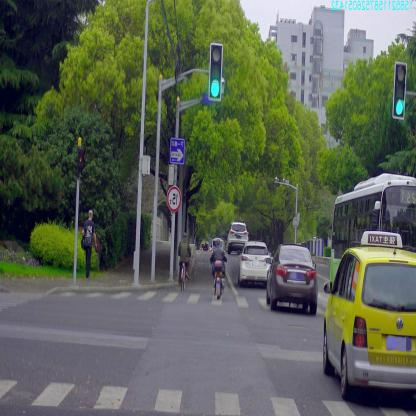traffic-light: (393, 62, 407, 118), (210, 44, 223, 100)
